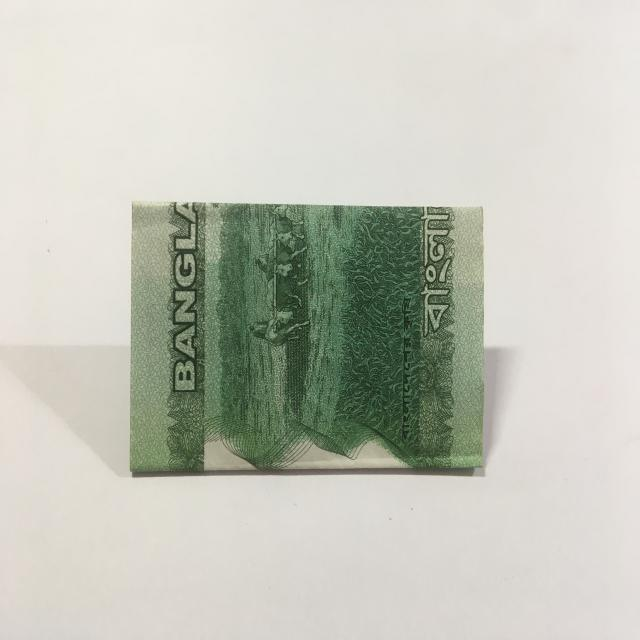Taka: (123, 194, 490, 482)
